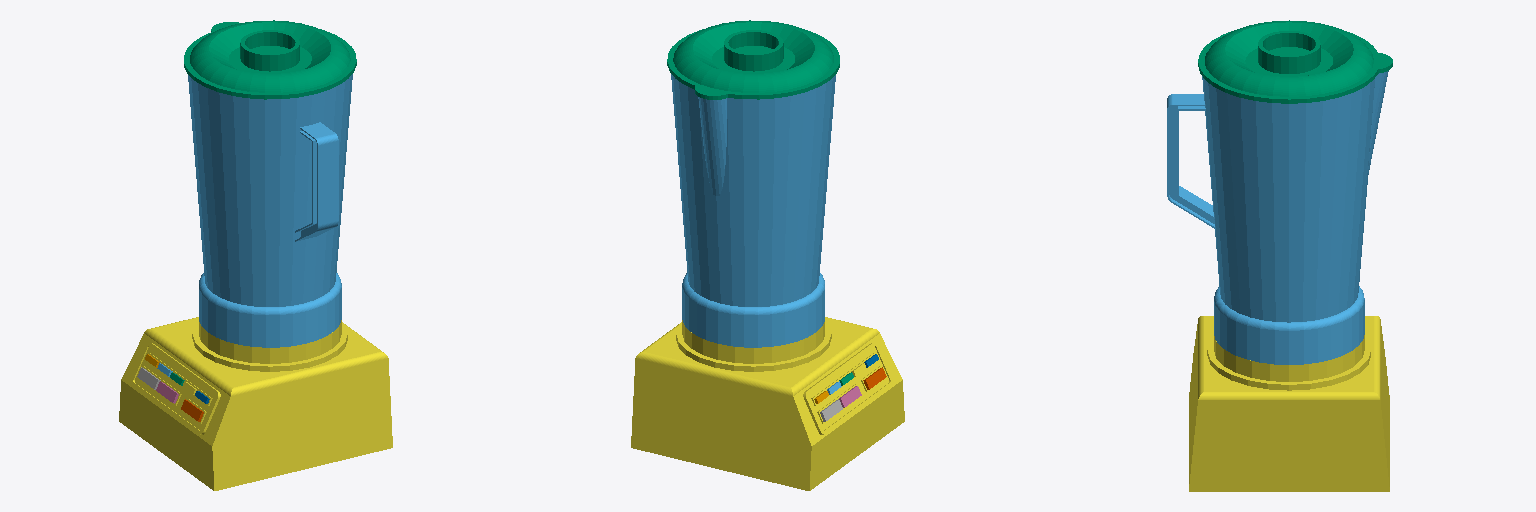
robot.urdf — partnet_8ee68f1c-df1e-4ec3-a140-3158b879b7b5:
<?xml version="1.0" ?>
<robot name="partnet_8ee68f1c-df1e-4ec3-a140-3158b879b7b5">
	<link name="base"/>
	<link name="link_0">
		<visual name="button-1">
			<origin xyz="0.038324000000000004 0.6415095171346125 -0.32073744492048123"/>
			<geometry>
				<mesh filename="textured_objs/original-9.obj"/>
			</geometry>
		</visual>
		<collision>
			<origin xyz="0.038324000000000004 0.6415095171346125 -0.32073744492048123"/>
			<geometry>
				<mesh filename="textured_objs/original-9.obj"/>
			</geometry>
		</collision>
	</link>
	<joint name="joint_0" type="fixed">
		<origin xyz="-0.038324000000000004 -0.6415095171346125 0.32073744492048123"/>
		<axis xyz="0 -0.447194283361883 -0.8944368468083436"/>
		<child link="link_0"/>
		<parent link="link_10"/>
		<limit lower="0" upper="0.020000000000000018"/>
	</joint>
	<link name="link_1">
		<visual name="button-2">
			<origin xyz="0.038324000000000004 0.6415095171346125 -0.32073744492048123"/>
			<geometry>
				<mesh filename="textured_objs/original-12.obj"/>
			</geometry>
		</visual>
		<collision>
			<origin xyz="0.038324000000000004 0.6415095171346125 -0.32073744492048123"/>
			<geometry>
				<mesh filename="textured_objs/original-12.obj"/>
			</geometry>
		</collision>
	</link>
	<joint name="joint_1" type="fixed">
		<origin xyz="-0.038324000000000004 -0.6415095171346125 0.32073744492048123"/>
		<axis xyz="0 -0.447194283361883 -0.8944368468083436"/>
		<child link="link_1"/>
		<parent link="link_10"/>
		<limit lower="0" upper="0.020000000000000018"/>
	</joint>
	<link name="link_2">
		<visual name="button-3">
			<origin xyz="0.038324000000000004 0.6415095171346125 -0.32073744492048123"/>
			<geometry>
				<mesh filename="textured_objs/original-14.obj"/>
			</geometry>
		</visual>
		<collision>
			<origin xyz="0.038324000000000004 0.6415095171346125 -0.32073744492048123"/>
			<geometry>
				<mesh filename="textured_objs/original-14.obj"/>
			</geometry>
		</collision>
	</link>
	<joint name="joint_2" type="fixed">
		<origin xyz="-0.038324000000000004 -0.6415095171346125 0.32073744492048123"/>
		<axis xyz="0 -0.447194283361883 -0.8944368468083436"/>
		<child link="link_2"/>
		<parent link="link_10"/>
		<limit lower="0" upper="0.020000000000000018"/>
	</joint>
	<link name="link_3">
		<visual name="button-4">
			<origin xyz="0.038324000000000004 0.6415095171346125 -0.32073744492048123"/>
			<geometry>
				<mesh filename="textured_objs/original-10.obj"/>
			</geometry>
		</visual>
		<collision>
			<origin xyz="0.038324000000000004 0.6415095171346125 -0.32073744492048123"/>
			<geometry>
				<mesh filename="textured_objs/original-10.obj"/>
			</geometry>
		</collision>
	</link>
	<joint name="joint_3" type="fixed">
		<origin xyz="-0.038324000000000004 -0.6415095171346125 0.32073744492048123"/>
		<axis xyz="0 -0.447194283361883 -0.8944368468083436"/>
		<child link="link_3"/>
		<parent link="link_10"/>
		<limit lower="0" upper="0.020000000000000018"/>
	</joint>
	<link name="link_4">
		<visual name="button-5">
			<origin xyz="0.038324000000000004 0.6415095171346125 -0.32073744492048123"/>
			<geometry>
				<mesh filename="textured_objs/original-11.obj"/>
			</geometry>
		</visual>
		<collision>
			<origin xyz="0.038324000000000004 0.6415095171346125 -0.32073744492048123"/>
			<geometry>
				<mesh filename="textured_objs/original-11.obj"/>
			</geometry>
		</collision>
	</link>
	<joint name="joint_4" type="fixed">
		<origin xyz="-0.038324000000000004 -0.6415095171346125 0.32073744492048123"/>
		<axis xyz="0 -0.447194283361883 -0.8944368468083436"/>
		<child link="link_4"/>
		<parent link="link_10"/>
		<limit lower="0" upper="0.020000000000000018"/>
	</joint>
	<link name="link_5">
		<visual name="button-6">
			<origin xyz="0.038324000000000004 0.6415095171346125 -0.32073744492048123"/>
			<geometry>
				<mesh filename="textured_objs/original-16.obj"/>
			</geometry>
		</visual>
		<collision>
			<origin xyz="0.038324000000000004 0.6415095171346125 -0.32073744492048123"/>
			<geometry>
				<mesh filename="textured_objs/original-16.obj"/>
			</geometry>
		</collision>
	</link>
	<joint name="joint_5" type="fixed">
		<origin xyz="-0.038324000000000004 -0.6415095171346125 0.32073744492048123"/>
		<axis xyz="0 -0.447194283361883 -0.8944368468083436"/>
		<child link="link_5"/>
		<parent link="link_10"/>
		<limit lower="0" upper="0.020000000000000018"/>
	</joint>
	<link name="link_6">
		<visual name="button-7">
			<origin xyz="0.038324000000000004 0.6415095171346125 -0.32073744492048123"/>
			<geometry>
				<mesh filename="textured_objs/original-17.obj"/>
			</geometry>
		</visual>
		<collision>
			<origin xyz="0.038324000000000004 0.6415095171346125 -0.32073744492048123"/>
			<geometry>
				<mesh filename="textured_objs/original-17.obj"/>
			</geometry>
		</collision>
	</link>
	<joint name="joint_6" type="fixed">
		<origin xyz="-0.038324000000000004 -0.6415095171346125 0.32073744492048123"/>
		<axis xyz="0 -0.447194283361883 -0.8944368468083436"/>
		<child link="link_6"/>
		<parent link="link_10"/>
		<limit lower="0" upper="0.020000000000000018"/>
	</joint>
	<link name="link_7">
		<visual name="button-8">
			<origin xyz="0.038324000000000004 0.6415095171346125 -0.32073744492048123"/>
			<geometry>
				<mesh filename="textured_objs/original-13.obj"/>
			</geometry>
		</visual>
		<collision>
			<origin xyz="0.038324000000000004 0.6415095171346125 -0.32073744492048123"/>
			<geometry>
				<mesh filename="textured_objs/original-13.obj"/>
			</geometry>
		</collision>
	</link>
	<joint name="joint_7" type="fixed">
		<origin xyz="-0.038324000000000004 -0.6415095171346125 0.32073744492048123"/>
		<axis xyz="0 -0.447194283361883 -0.8944368468083436"/>
		<child link="link_7"/>
		<parent link="link_10"/>
		<limit lower="0" upper="0.020000000000000018"/>
	</joint>
	<link name="link_8">
		<visual name="container-9">
			<origin xyz="0 0 0"/>
			<geometry>
				<mesh filename="textured_objs/original-41.obj"/>
			</geometry>
		</visual>
		<visual name="container-9">
			<origin xyz="0 0 0"/>
			<geometry>
				<mesh filename="textured_objs/original-36.obj"/>
			</geometry>
		</visual>
		<visual name="container-9">
			<origin xyz="0 0 0"/>
			<geometry>
				<mesh filename="textured_objs/original-2.obj"/>
			</geometry>
		</visual>
		<visual name="container-9">
			<origin xyz="0 0 0"/>
			<geometry>
				<mesh filename="textured_objs/original-23.obj"/>
			</geometry>
		</visual>
		<visual name="container-9">
			<origin xyz="0 0 0"/>
			<geometry>
				<mesh filename="textured_objs/original-26.obj"/>
			</geometry>
		</visual>
		<visual name="container-9">
			<origin xyz="0 0 0"/>
			<geometry>
				<mesh filename="textured_objs/original-25.obj"/>
			</geometry>
		</visual>
		<visual name="container-9">
			<origin xyz="0 0 0"/>
			<geometry>
				<mesh filename="textured_objs/original-28.obj"/>
			</geometry>
		</visual>
		<visual name="container-9">
			<origin xyz="0 0 0"/>
			<geometry>
				<mesh filename="textured_objs/original-29.obj"/>
			</geometry>
		</visual>
		<visual name="container-9">
			<origin xyz="0 0 0"/>
			<geometry>
				<mesh filename="textured_objs/original-27.obj"/>
			</geometry>
		</visual>
		<visual name="container-9">
			<origin xyz="0 0 0"/>
			<geometry>
				<mesh filename="textured_objs/original-4.obj"/>
			</geometry>
		</visual>
		<visual name="container-9">
			<origin xyz="0 0 0"/>
			<geometry>
				<mesh filename="textured_objs/original-3.obj"/>
			</geometry>
		</visual>
		<collision>
			<origin xyz="0 0 0"/>
			<geometry>
				<mesh filename="textured_objs/original-41.obj"/>
			</geometry>
		</collision>
		<collision>
			<origin xyz="0 0 0"/>
			<geometry>
				<mesh filename="textured_objs/original-36.obj"/>
			</geometry>
		</collision>
		<collision>
			<origin xyz="0 0 0"/>
			<geometry>
				<mesh filename="textured_objs/original-2.obj"/>
			</geometry>
		</collision>
		<collision>
			<origin xyz="0 0 0"/>
			<geometry>
				<mesh filename="textured_objs/original-23.obj"/>
			</geometry>
		</collision>
		<collision>
			<origin xyz="0 0 0"/>
			<geometry>
				<mesh filename="textured_objs/original-26.obj"/>
			</geometry>
		</collision>
		<collision>
			<origin xyz="0 0 0"/>
			<geometry>
				<mesh filename="textured_objs/original-25.obj"/>
			</geometry>
		</collision>
		<collision>
			<origin xyz="0 0 0"/>
			<geometry>
				<mesh filename="textured_objs/original-28.obj"/>
			</geometry>
		</collision>
		<collision>
			<origin xyz="0 0 0"/>
			<geometry>
				<mesh filename="textured_objs/original-29.obj"/>
			</geometry>
		</collision>
		<collision>
			<origin xyz="0 0 0"/>
			<geometry>
				<mesh filename="textured_objs/original-27.obj"/>
			</geometry>
		</collision>
		<collision>
			<origin xyz="0 0 0"/>
			<geometry>
				<mesh filename="textured_objs/original-4.obj"/>
			</geometry>
		</collision>
		<collision>
			<origin xyz="0 0 0"/>
			<geometry>
				<mesh filename="textured_objs/original-3.obj"/>
			</geometry>
		</collision>
	</link>
	<joint name="joint_8" type="fixed">
		<origin xyz="0 0 0"/>
		<axis xyz="0 1 0"/>
		<child link="link_8"/>
		<parent link="link_10"/>
		<limit lower="0" upper="0.01"/>
	</joint>
	<link name="link_9">
		<visual name="lid-10">
			<origin xyz="0 0 0"/>
			<geometry>
				<mesh filename="textured_objs/original-38.obj"/>
			</geometry>
		</visual>
		<visual name="lid-10">
			<origin xyz="0 0 0"/>
			<geometry>
				<mesh filename="textured_objs/original-39.obj"/>
			</geometry>
		</visual>
		<visual name="lid-10">
			<origin xyz="0 0 0"/>
			<geometry>
				<mesh filename="textured_objs/original-34.obj"/>
			</geometry>
		</visual>
		<visual name="lid-10">
			<origin xyz="0 0 0"/>
			<geometry>
				<mesh filename="textured_objs/original-35.obj"/>
			</geometry>
		</visual>
		<visual name="lid-10">
			<origin xyz="0 0 0"/>
			<geometry>
				<mesh filename="textured_objs/original-33.obj"/>
			</geometry>
		</visual>
		<visual name="lid-10">
			<origin xyz="0 0 0"/>
			<geometry>
				<mesh filename="textured_objs/original-40.obj"/>
			</geometry>
		</visual>
		<visual name="lid-10">
			<origin xyz="0 0 0"/>
			<geometry>
				<mesh filename="textured_objs/original-32.obj"/>
			</geometry>
		</visual>
		<collision>
			<origin xyz="0 0 0"/>
			<geometry>
				<mesh filename="textured_objs/original-38.obj"/>
			</geometry>
		</collision>
		<collision>
			<origin xyz="0 0 0"/>
			<geometry>
				<mesh filename="textured_objs/original-39.obj"/>
			</geometry>
		</collision>
		<collision>
			<origin xyz="0 0 0"/>
			<geometry>
				<mesh filename="textured_objs/original-34.obj"/>
			</geometry>
		</collision>
		<collision>
			<origin xyz="0 0 0"/>
			<geometry>
				<mesh filename="textured_objs/original-35.obj"/>
			</geometry>
		</collision>
		<collision>
			<origin xyz="0 0 0"/>
			<geometry>
				<mesh filename="textured_objs/original-33.obj"/>
			</geometry>
		</collision>
		<collision>
			<origin xyz="0 0 0"/>
			<geometry>
				<mesh filename="textured_objs/original-40.obj"/>
			</geometry>
		</collision>
		<collision>
			<origin xyz="0 0 0"/>
			<geometry>
				<mesh filename="textured_objs/original-32.obj"/>
			</geometry>
		</collision>
	</link>
	<joint name="joint_9" type="prismatic">
		<origin xyz="0 0 0"/>
		<axis xyz="0 1 0"/>
		<child link="link_9"/>
		<parent link="link_8"/>
		<limit lower="0" upper="0.5"/>
	</joint>
	<link name="link_10">
		<visual name="base_body-11">
			<origin xyz="0 0 0"/>
			<geometry>
				<mesh filename="textured_objs/original-21.obj"/>
			</geometry>
		</visual>
		<visual name="base_body-11">
			<origin xyz="0 0 0"/>
			<geometry>
				<mesh filename="textured_objs/original-22.obj"/>
			</geometry>
		</visual>
		<visual name="base_body-11">
			<origin xyz="0 0 0"/>
			<geometry>
				<mesh filename="textured_objs/original-8.obj"/>
			</geometry>
		</visual>
		<visual name="base_body-11">
			<origin xyz="0 0 0"/>
			<geometry>
				<mesh filename="textured_objs/original-6.obj"/>
			</geometry>
		</visual>
		<visual name="base_body-11">
			<origin xyz="0 0 0"/>
			<geometry>
				<mesh filename="textured_objs/original-15.obj"/>
			</geometry>
		</visual>
		<visual name="base_body-11">
			<origin xyz="0 0 0"/>
			<geometry>
				<mesh filename="textured_objs/original-18.obj"/>
			</geometry>
		</visual>
		<visual name="base_body-11">
			<origin xyz="0 0 0"/>
			<geometry>
				<mesh filename="textured_objs/original-20.obj"/>
			</geometry>
		</visual>
		<visual name="base_body-11">
			<origin xyz="0 0 0"/>
			<geometry>
				<mesh filename="textured_objs/original-7.obj"/>
			</geometry>
		</visual>
		<visual name="base_body-11">
			<origin xyz="0 0 0"/>
			<geometry>
				<mesh filename="textured_objs/original-19.obj"/>
			</geometry>
		</visual>
		<collision>
			<origin xyz="0 0 0"/>
			<geometry>
				<mesh filename="textured_objs/original-21.obj"/>
			</geometry>
		</collision>
		<collision>
			<origin xyz="0 0 0"/>
			<geometry>
				<mesh filename="textured_objs/original-22.obj"/>
			</geometry>
		</collision>
		<collision>
			<origin xyz="0 0 0"/>
			<geometry>
				<mesh filename="textured_objs/original-8.obj"/>
			</geometry>
		</collision>
		<collision>
			<origin xyz="0 0 0"/>
			<geometry>
				<mesh filename="textured_objs/original-6.obj"/>
			</geometry>
		</collision>
		<collision>
			<origin xyz="0 0 0"/>
			<geometry>
				<mesh filename="textured_objs/original-15.obj"/>
			</geometry>
		</collision>
		<collision>
			<origin xyz="0 0 0"/>
			<geometry>
				<mesh filename="textured_objs/original-18.obj"/>
			</geometry>
		</collision>
		<collision>
			<origin xyz="0 0 0"/>
			<geometry>
				<mesh filename="textured_objs/original-20.obj"/>
			</geometry>
		</collision>
		<collision>
			<origin xyz="0 0 0"/>
			<geometry>
				<mesh filename="textured_objs/original-7.obj"/>
			</geometry>
		</collision>
		<collision>
			<origin xyz="0 0 0"/>
			<geometry>
				<mesh filename="textured_objs/original-19.obj"/>
			</geometry>
		</collision>
	</link>
	<joint name="joint_10" type="fixed">
		<origin rpy="1.570796326794897 0 -1.570796326794897" xyz="0 0 0"/>
		<child link="link_10"/>
		<parent link="base"/>
	</joint>
</robot>

--- Facts derived from the render (not from the file) ---
The picture shows the robot from 3 angles, left to right: view 1: azimuth 30°, elevation 25°; view 2: azimuth 150°, elevation 25°; view 3: azimuth 270°, elevation 25°; orthographic projection.
Robot: partnet_8ee68f1c-df1e-4ec3-a140-3158b879b7b5 — 12 links, 11 joints (1 prismatic, 10 fixed); root link base; default pose: all joints at 0.
Visible links, largest first — view 1: link_8, link_10, link_9; view 2: link_8, link_10, link_9; view 3: link_8, link_10, link_9.
Link boxes in pixels (x1,y1,x2,y2): link_8: (188,74,352,347); link_10: (119,317,392,490); link_9: (184,20,356,99); link_8: (671,74,835,347); link_10: (631,317,904,490); link_9: (667,20,839,99); link_8: (1167,71,1388,364); link_10: (1189,316,1389,491); link_9: (1198,20,1392,103).
Bounding box of the posed robot: 0.803 × 0.8307 × 1.66 m (x, y, z).
35 mesh visuals loaded from 35 distinct referenced files (35 OBJ).
